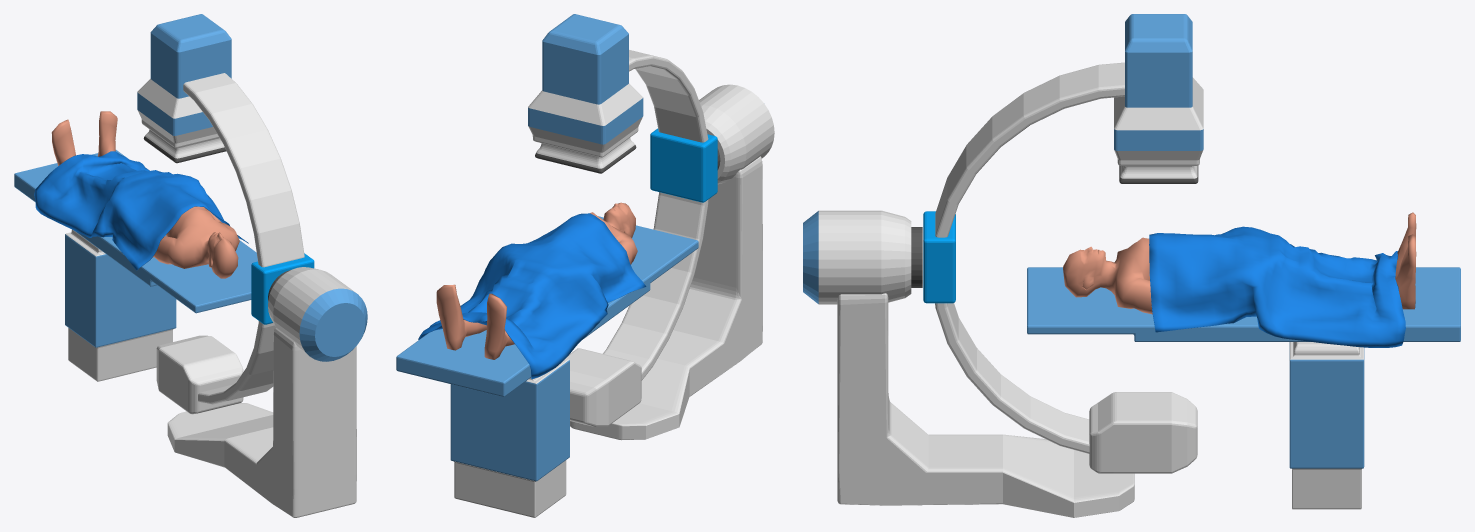
File: bedwhuman.gltf
The picture shows the model from 3 angles, left to right: view 1: azimuth 30°, elevation 25°; view 2: azimuth 150°, elevation 25°; view 3: azimuth 270°, elevation 25°; orthographic projection. The views are drawn at different scales.
Visible parts, largest first — view 1: Atop.001, overhead_base.001, bedpole, Plane, Cylinder.002, Low Poly Characte.000; view 2: Atop.001, bedpole, overhead_base.001, Plane, Cylinder.002, Low Poly Characte.000; view 3: Atop.001, overhead_base.001, bedpole, Plane, Cylinder.002, Low Poly Characte.000.
Boxes of the visible parts, bbox=[...] form: Atop.001: bbox=[137, 14, 314, 414]; overhead_base.001: bbox=[167, 327, 356, 517]; bedpole: bbox=[14, 150, 257, 381]; Plane: bbox=[34, 151, 248, 270]; Cylinder.002: bbox=[268, 267, 367, 361]; Low Poly Characte.000: bbox=[51, 111, 239, 278]; Atop.001: bbox=[528, 14, 717, 426]; bedpole: bbox=[396, 216, 698, 517]; overhead_base.001: bbox=[570, 156, 762, 440]; Plane: bbox=[418, 213, 646, 379]; Cylinder.002: bbox=[699, 84, 774, 184]; Low Poly Characte.000: bbox=[436, 202, 637, 359]; Atop.001: bbox=[923, 14, 1203, 473]; overhead_base.001: bbox=[837, 293, 1134, 517]; bedpole: bbox=[1027, 267, 1460, 509]; Plane: bbox=[1149, 226, 1405, 347]; Cylinder.002: bbox=[803, 210, 922, 304]; Low Poly Characte.000: bbox=[1063, 212, 1416, 314].
Bounding box in the file's own units: 2.89 × 8.61 × 11.1.
